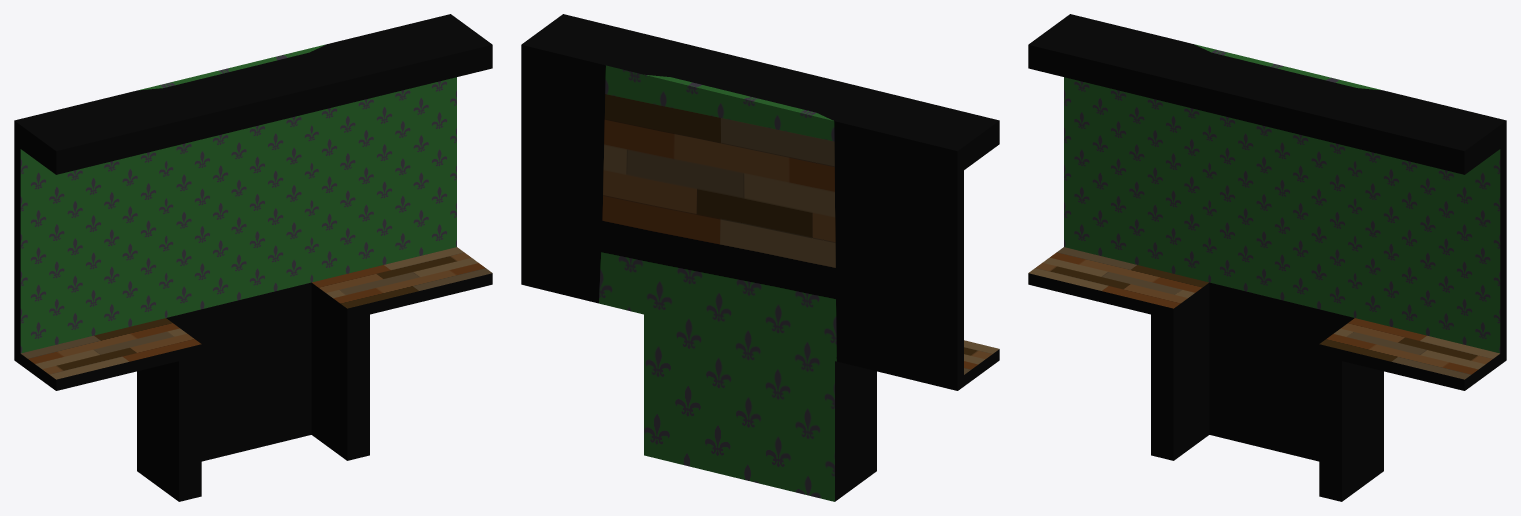
Rendered from SM_PathDown.fbx.
3 renders of one model, left to right at view 1: azimuth 30°, elevation 25°; view 2: azimuth 150°, elevation 25°; view 3: azimuth 330°, elevation 25°, orthographic.
Parts seen in each view (by area): view 1: SM_PathDown; view 2: SM_PathDown; view 3: SM_PathDown.
Boxes of the visible parts, left/top/right/bottom form: SM_PathDown: left=14, top=14, right=492, bottom=501; SM_PathDown: left=521, top=14, right=999, bottom=501; SM_PathDown: left=1028, top=14, right=1506, bottom=501.
Size of the model in its own units: 600 by 500 by 100.
